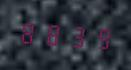eight: (18, 16, 40, 48), (41, 18, 63, 49)
nine: (87, 21, 109, 53)
three: (64, 19, 86, 51)
